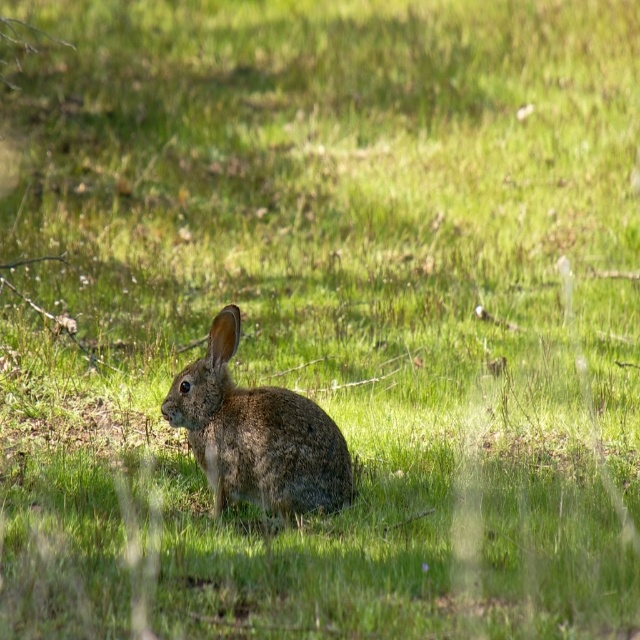Rabbit: (159, 301, 357, 532)
